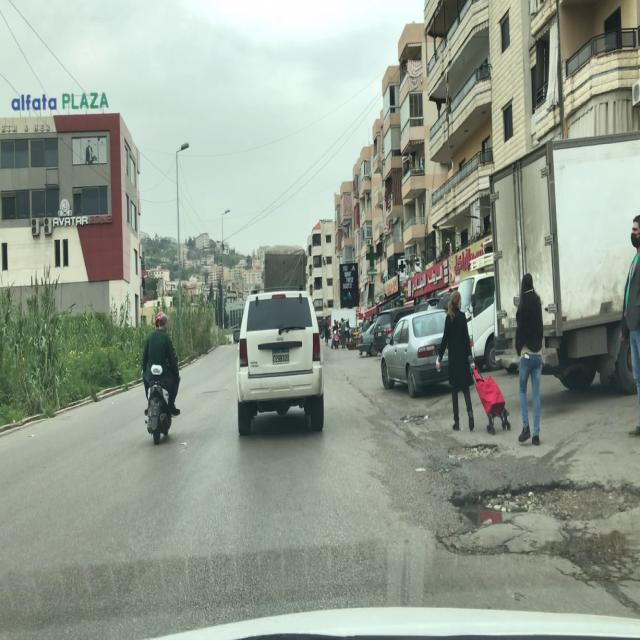Buraco: (446, 480, 640, 538), (442, 442, 505, 464), (397, 412, 433, 428)
